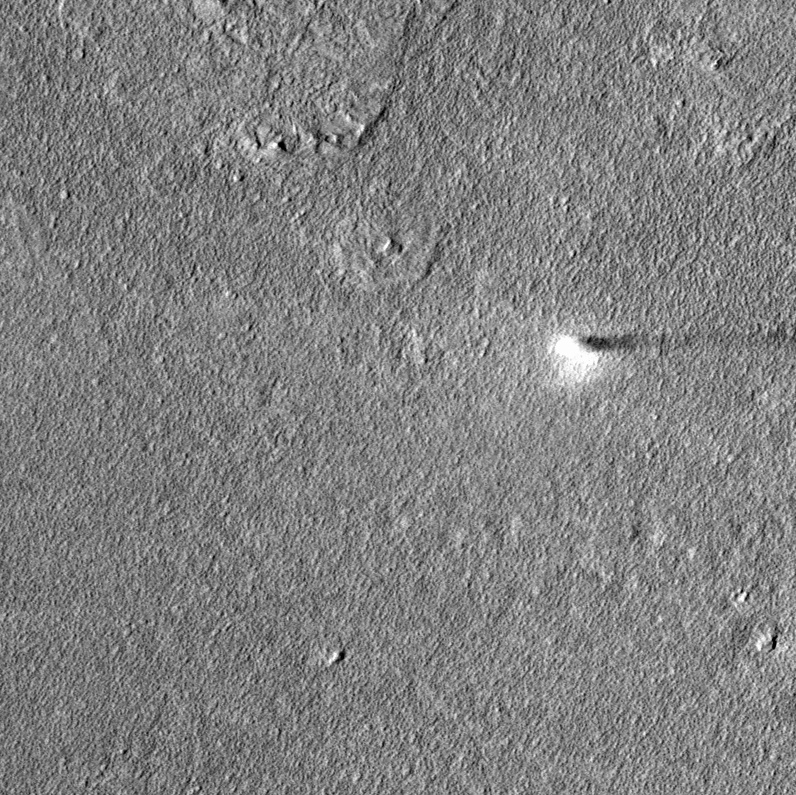dust_devil: (549, 328, 653, 373)
